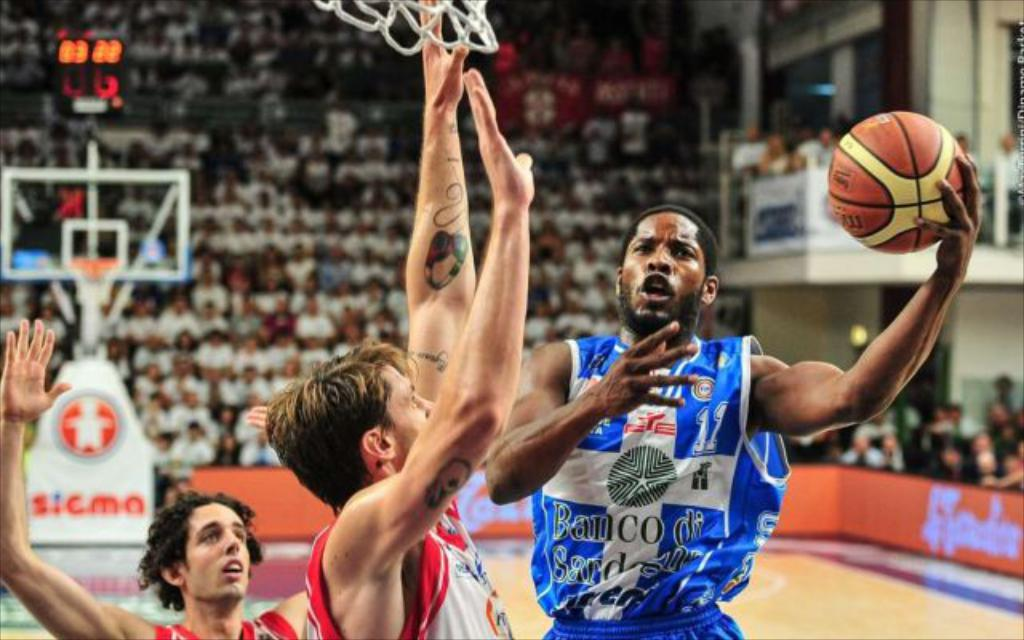Ball: (826, 107, 968, 253)
